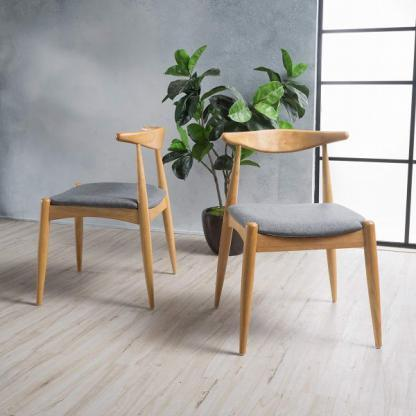chair: (197, 129, 387, 362), (35, 130, 174, 305)
